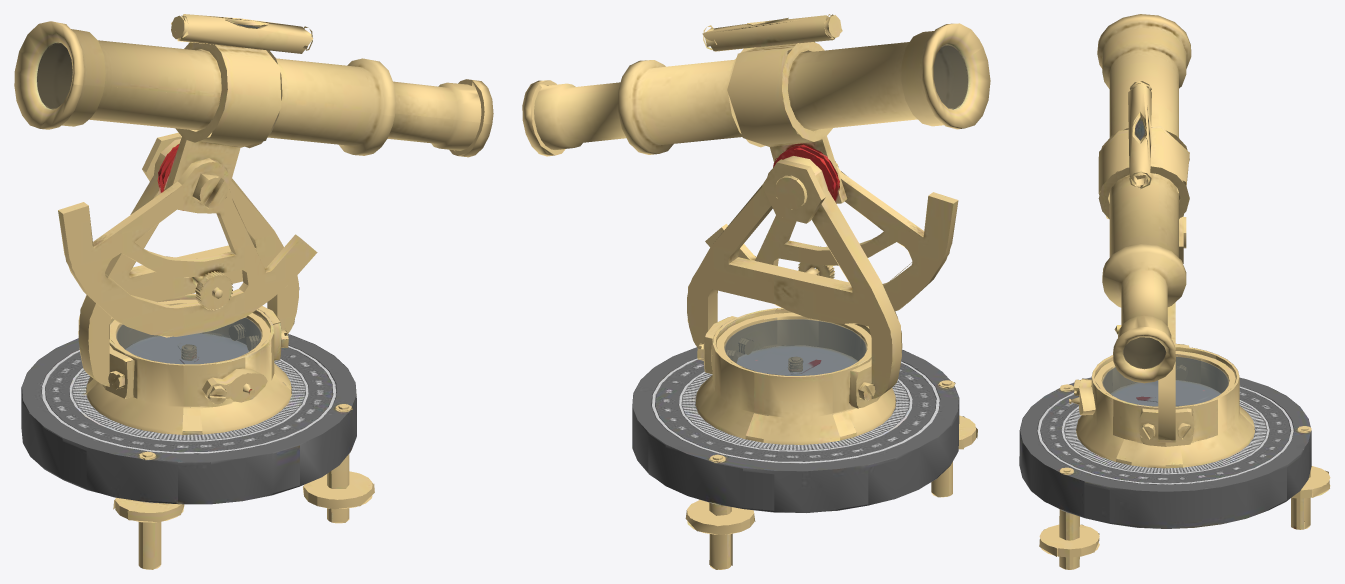
File: telescope_brass.glb
3 views of the same model, side by side, from view 1: azimuth 30°, elevation 25°; view 2: azimuth 150°, elevation 25°; view 3: azimuth 270°, elevation 25° (orthographic). The views are drawn at different scales.
Parts seen in each view (by area): view 1: base_Lowpoly_Material #26_0, shaft 2_Lowpoly_Material #26_0, bending thing_Lowpoly_Material #26_0, shaft_Lowpoly_Material #26_0, extra_Lowpoly_Material #26_0, glass_Lowpoly_Material #25_0, screws_Lowpoly_Material #26_0; view 2: base_Lowpoly_Material #26_0, shaft 2_Lowpoly_Material #26_0, bending thing_Lowpoly_Material #26_0, shaft_Lowpoly_Material #26_0, glass_Lowpoly_Material #25_0, extra_Lowpoly_Material #26_0, screws_Lowpoly_Material #26_0; view 3: base_Lowpoly_Material #26_0, shaft 2_Lowpoly_Material #26_0, shaft_Lowpoly_Material #26_0, extra_Lowpoly_Material #26_0, glass_Lowpoly_Material #25_0, bending thing_Lowpoly_Material #26_0, screws_Lowpoly_Material #26_0.
Part boxes in pixels (box(x1,y1,x2,y2)): base_Lowpoly_Material #26_0: box(21, 293, 356, 504); shaft 2_Lowpoly_Material #26_0: box(14, 21, 493, 157); bending thing_Lowpoly_Material #26_0: box(58, 138, 317, 386); shaft_Lowpoly_Material #26_0: box(164, 14, 313, 190); extra_Lowpoly_Material #26_0: box(101, 144, 374, 569); glass_Lowpoly_Material #25_0: box(37, 42, 262, 364); screws_Lowpoly_Material #26_0: box(108, 132, 352, 459); base_Lowpoly_Material #26_0: box(632, 308, 959, 512); shaft 2_Lowpoly_Material #26_0: box(522, 23, 990, 156); bending thing_Lowpoly_Material #26_0: box(687, 156, 958, 398); shaft_Lowpoly_Material #26_0: box(702, 14, 847, 203); glass_Lowpoly_Material #25_0: box(724, 44, 968, 375); extra_Lowpoly_Material #26_0: box(685, 144, 977, 569); screws_Lowpoly_Material #26_0: box(697, 159, 955, 462); base_Lowpoly_Material #26_0: box(1019, 346, 1311, 528); shaft 2_Lowpoly_Material #26_0: box(1097, 14, 1191, 383); shaft_Lowpoly_Material #26_0: box(1098, 81, 1189, 219); extra_Lowpoly_Material #26_0: box(1039, 325, 1330, 569); glass_Lowpoly_Material #25_0: box(1102, 337, 1229, 406); bending thing_Lowpoly_Material #26_0: box(1158, 302, 1175, 442); screws_Lowpoly_Material #26_0: box(1060, 216, 1311, 474).
Bounding box in the file's own units: 124 × 136 × 85.02.
2 materials, 2 textured.
